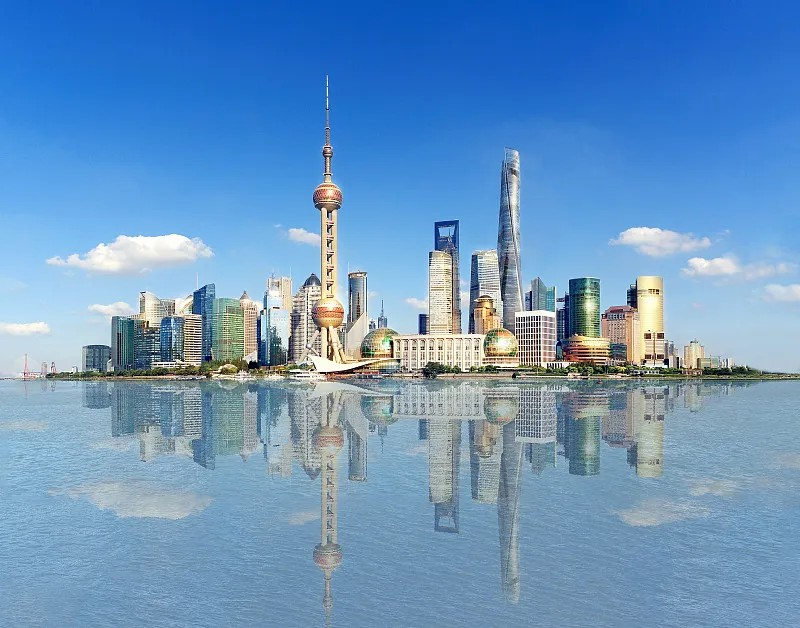Oriental: (300, 76, 344, 360)
